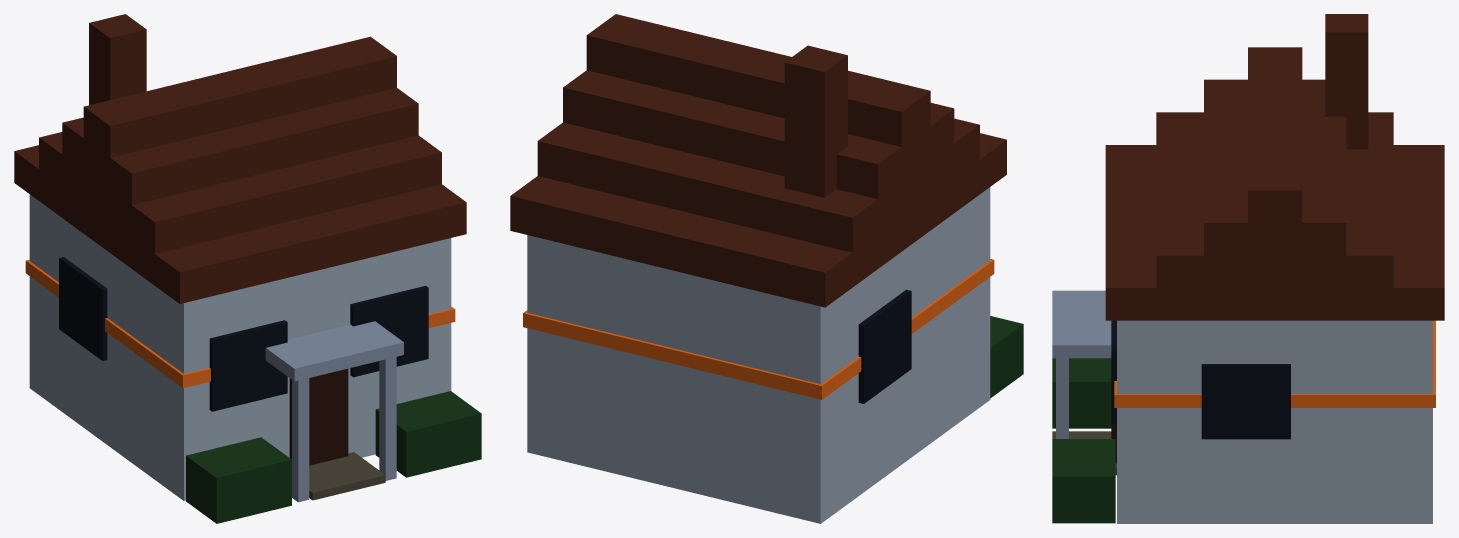
Rendered from house1.obj.
3 views of the same model, side by side, from view 1: azimuth 30°, elevation 25°; view 2: azimuth 150°, elevation 25°; view 3: azimuth 270°, elevation 25° (orthographic). The views are drawn at different scales.
Parts seen in each view (by area): view 1: roof, body, hedge, windows, porch, chimney, door, window-light, path; view 2: body, roof, chimney, window-light, windows, hedge; view 3: roof, body, hedge, windows, chimney, porch, window-light.
Part boxes in pixels (x1=…): roof: x1=14, y1=36, x2=466, y2=303; body: x1=29, y1=194, x2=451, y2=500; hedge: x1=186, y1=391, x2=481, y2=523; windows: x1=59, y1=257, x2=428, y2=411; porch: x1=265, y1=321, x2=403, y2=502; chimney: x1=89, y1=14, x2=146, y2=105; door: x1=289, y1=368, x2=348, y2=465; window-light: x1=25, y1=259, x2=455, y2=388; path: x1=309, y1=452, x2=385, y2=500; body: x1=527, y1=187, x2=990, y2=523; roof: x1=510, y1=14, x2=1006, y2=307; chimney: x1=784, y1=45, x2=847, y2=197; window-light: x1=523, y1=259, x2=994, y2=399; windows: x1=858, y1=289, x2=911, y2=403; hedge: x1=990, y1=316, x2=1023, y2=398; roof: x1=1105, y1=47, x2=1444, y2=320; body: x1=1117, y1=320, x2=1432, y2=523; hedge: x1=1052, y1=358, x2=1115, y2=523; windows: x1=1111, y1=320, x2=1290, y2=439; chimney: x1=1325, y1=14, x2=1368, y2=149; porch: x1=1052, y1=290, x2=1111, y2=438; window-light: x1=1114, y1=320, x2=1435, y2=407.
Size of the model in its own units: 2.36 by 3 by 2.73.
